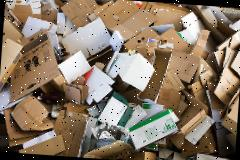paper: (127, 106, 180, 153), (117, 52, 156, 92), (76, 15, 112, 57), (57, 49, 93, 85), (98, 95, 128, 126), (22, 128, 56, 151), (21, 16, 52, 40)
